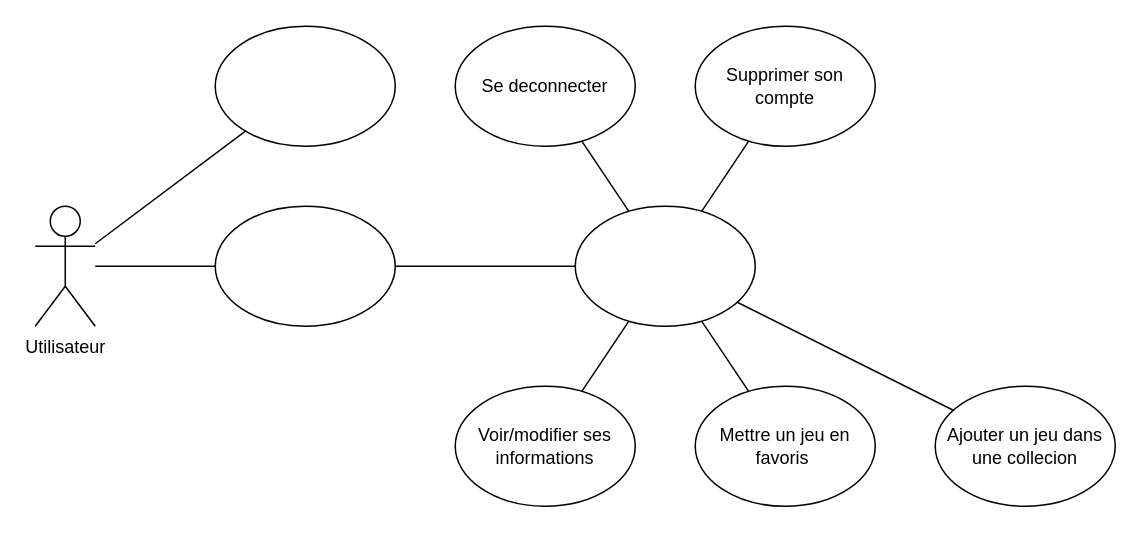
Image size: 1142x533. Some labels were removed from this diagram. Here are the shapes that lost their labels. From the top down, the centre of each, then its label:
(x=304, y=85): Voir la liste des jeux
(x=304, y=265): S'inscrire
(x=664, y=265): Se connecter
